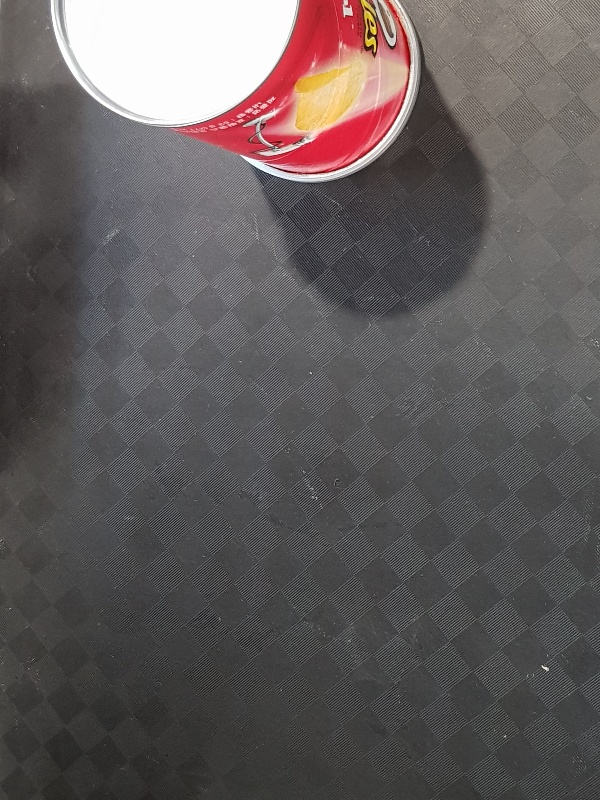Pringles Original: (50, 1, 424, 183)
